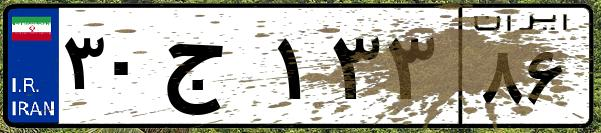0: (110, 28, 158, 98)
1: (270, 28, 330, 110)
3: (385, 28, 445, 110), (330, 28, 385, 110), (57, 26, 110, 100)
6: (525, 38, 570, 115)
8: (475, 38, 525, 113)
ج: (158, 20, 270, 120)
